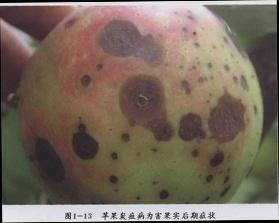rotten apple: (1, 14, 264, 202)
